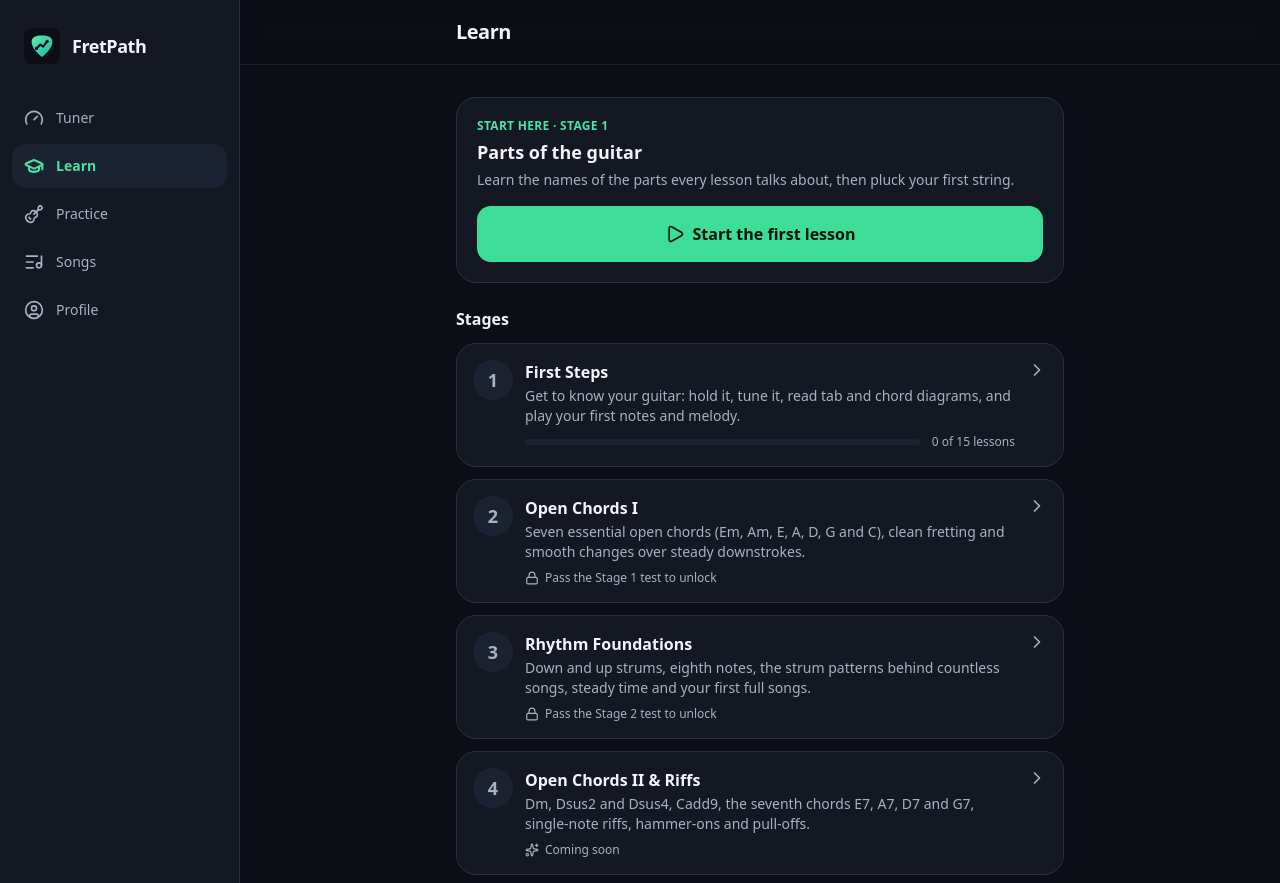
Test case: Learn screens › starts a new course at the first lesson, with later stages closed
This screenshot has width=1280, height=883.
Check: the heading "Learn" is shown, box [456,18,511,45]
Check: the text "Pass the Stage 1 test to unlock" is shown, box [456,479,1064,603]
Step 1. Click the link "Start the first lesson" → (760, 234), box [477,206,1043,262]
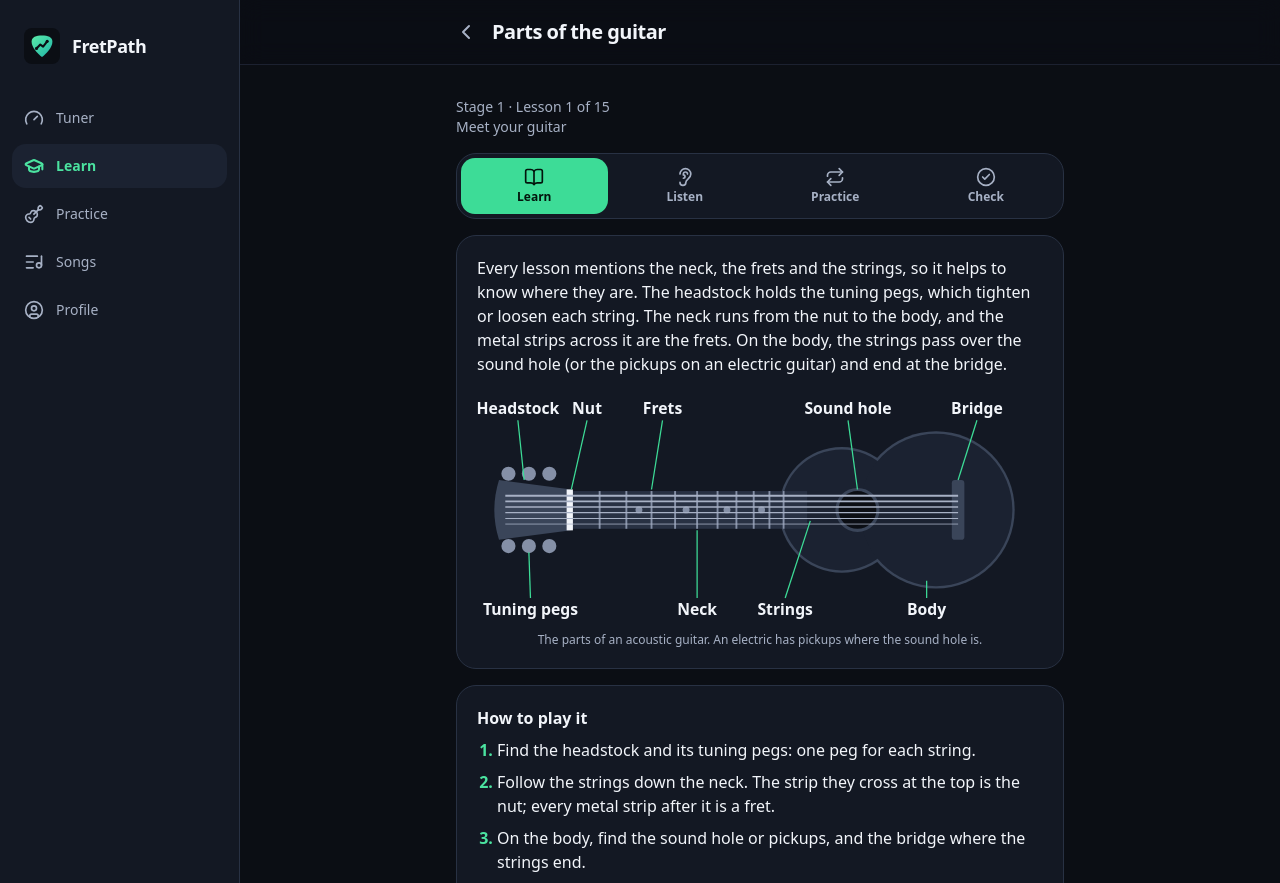
Check: the heading "Parts of the guitar" is shown, box [492,18,666,45]
